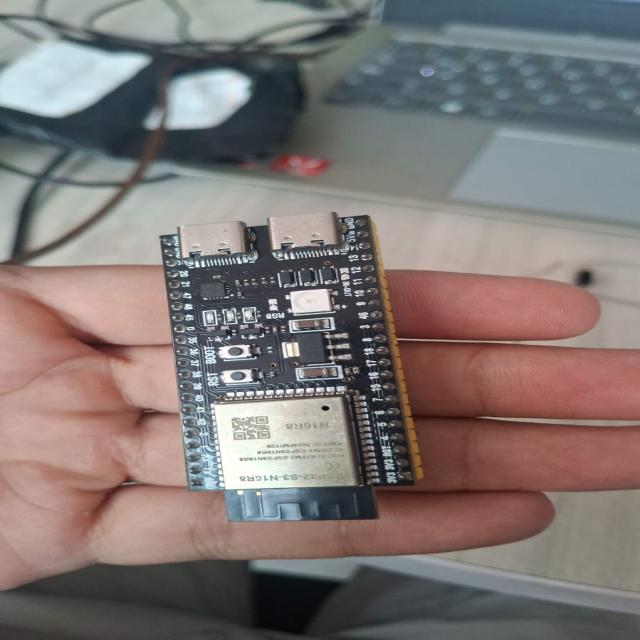ESP32: (161, 212, 422, 522)
